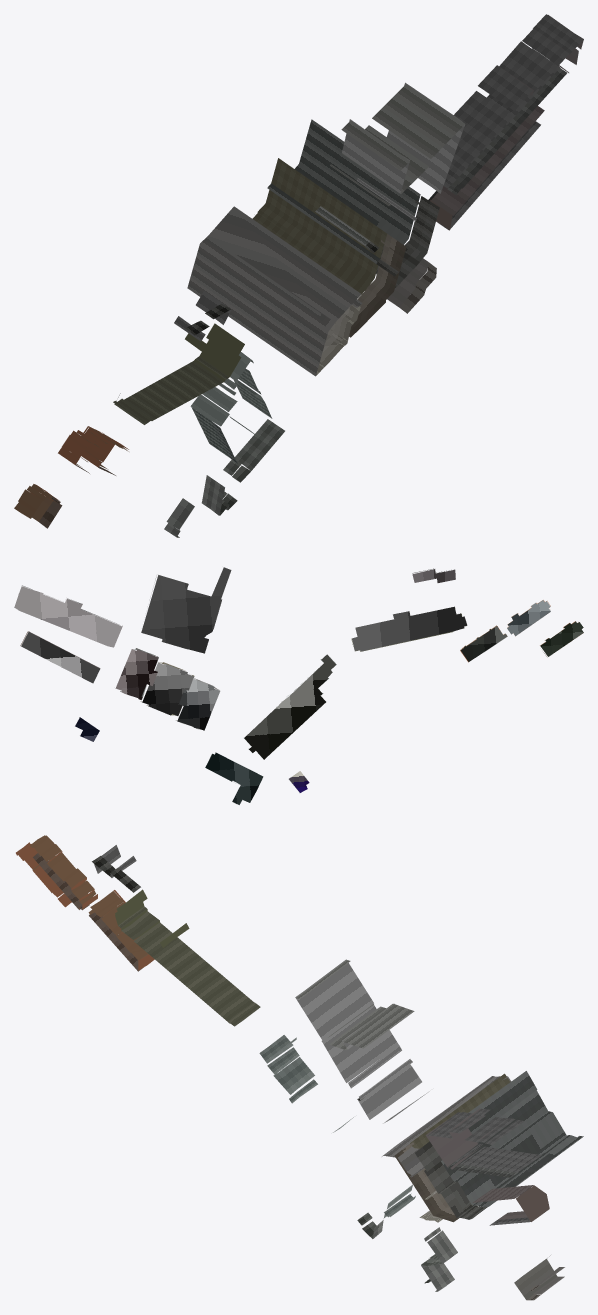
The model's file is tile_LOD3_r6_c4.glb.
3 views of the same model, one above another, from view 1: azimuth 30°, elevation 25°; view 2: azimuth 150°, elevation 25°; view 3: azimuth 270°, elevation 25° (orthographic). The views are drawn at different scales.
Bounding box in the file's own units: 277 × 129 × 184.
56 materials, 56 textured.
